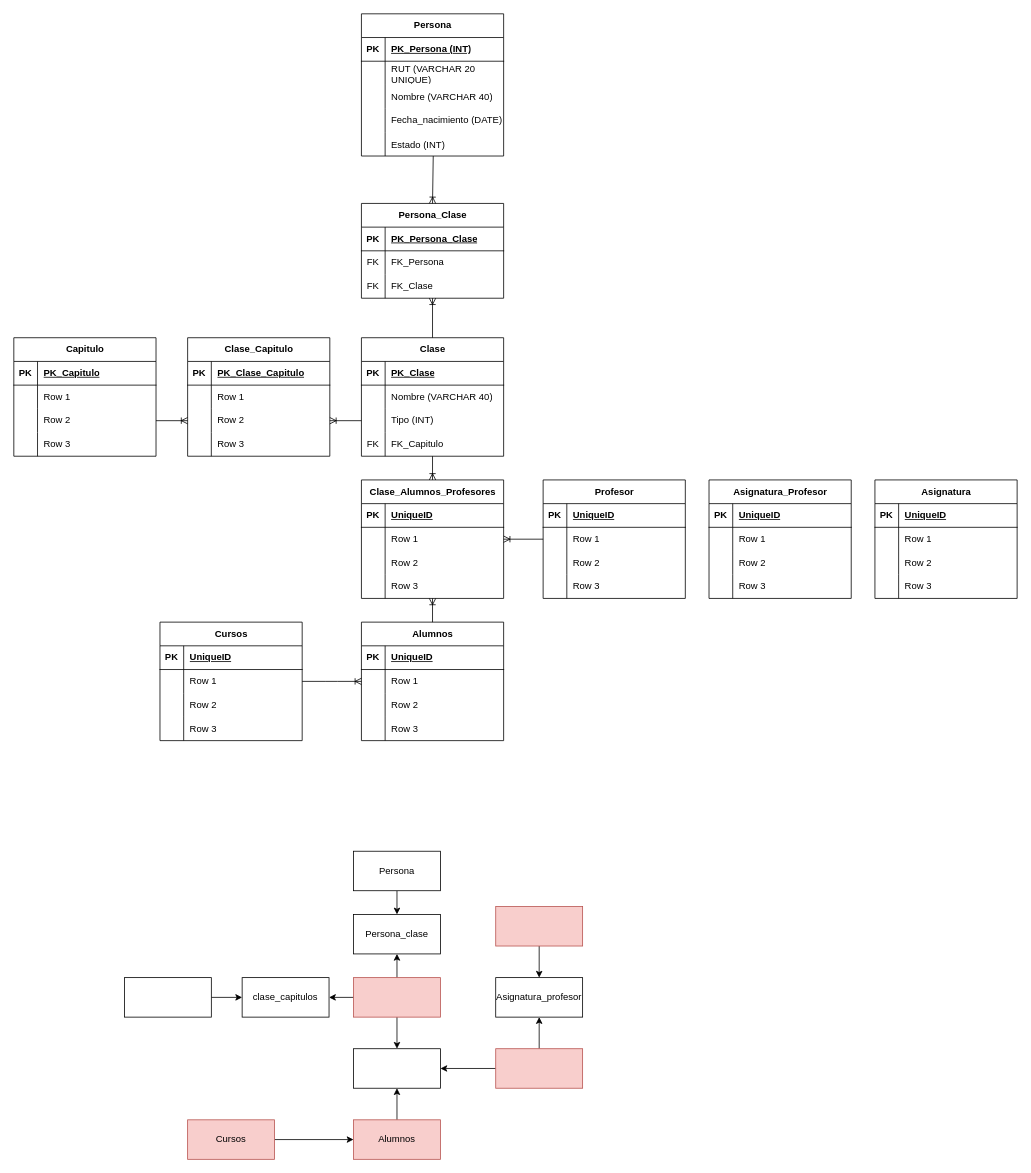
Image size: 1031x1173. Some labels were removed from this diagram. The centre of each missing label's shape, as x and y in pixels:
Asignaturas: [539,926]
Capitulos: [167,997]
Clase o Tutorias: [396,997]
Profesores: [539,1068]
Tabla intermedia: [396,1068]
